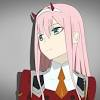zeroTwo: (28, 1, 87, 60)
